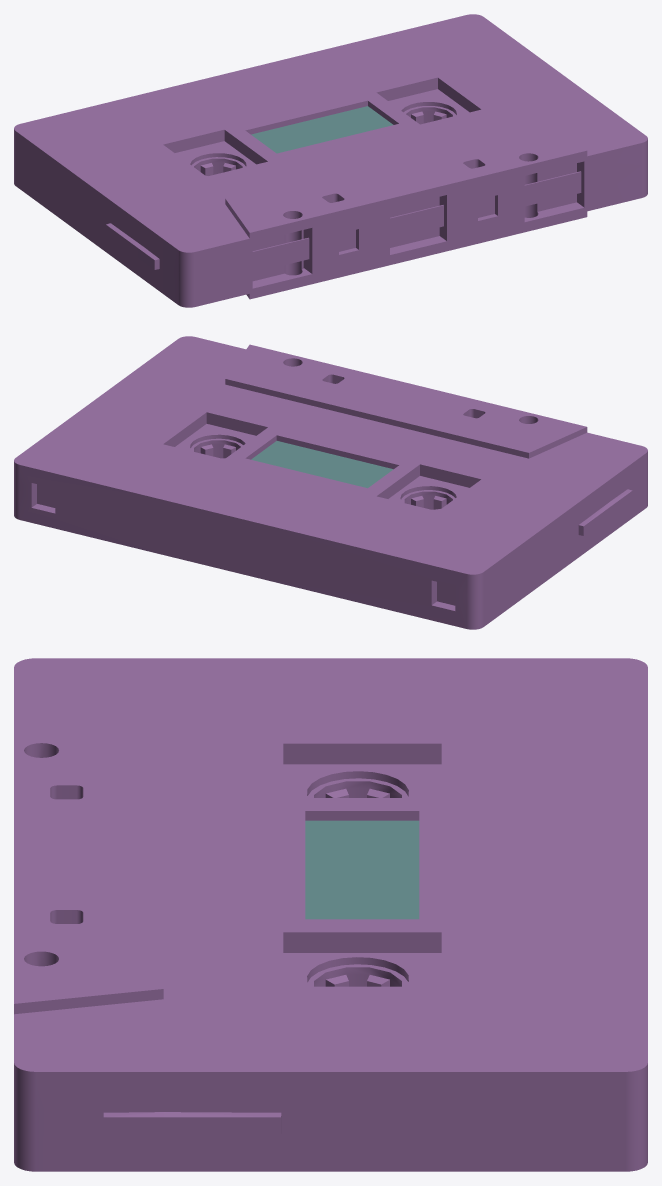
Rendered from cassette_with_plastic.fbx.
3 views of the same model, one above another, from view 1: azimuth 30°, elevation 25°; view 2: azimuth 150°, elevation 25°; view 3: azimuth 270°, elevation 25° (orthographic). The views are drawn at different scales.
Visible parts, largest first — view 1: cassette_with_plastic; view 2: cassette_with_plastic; view 3: cassette_with_plastic.
Part boxes in pixels (x1,y1,x2,y2): cassette_with_plastic: [14, 14, 647, 307]; cassette_with_plastic: [14, 336, 647, 629]; cassette_with_plastic: [14, 658, 647, 1171].
Size of the model in its own units: 8.74 by 1.16 by 5.54.
